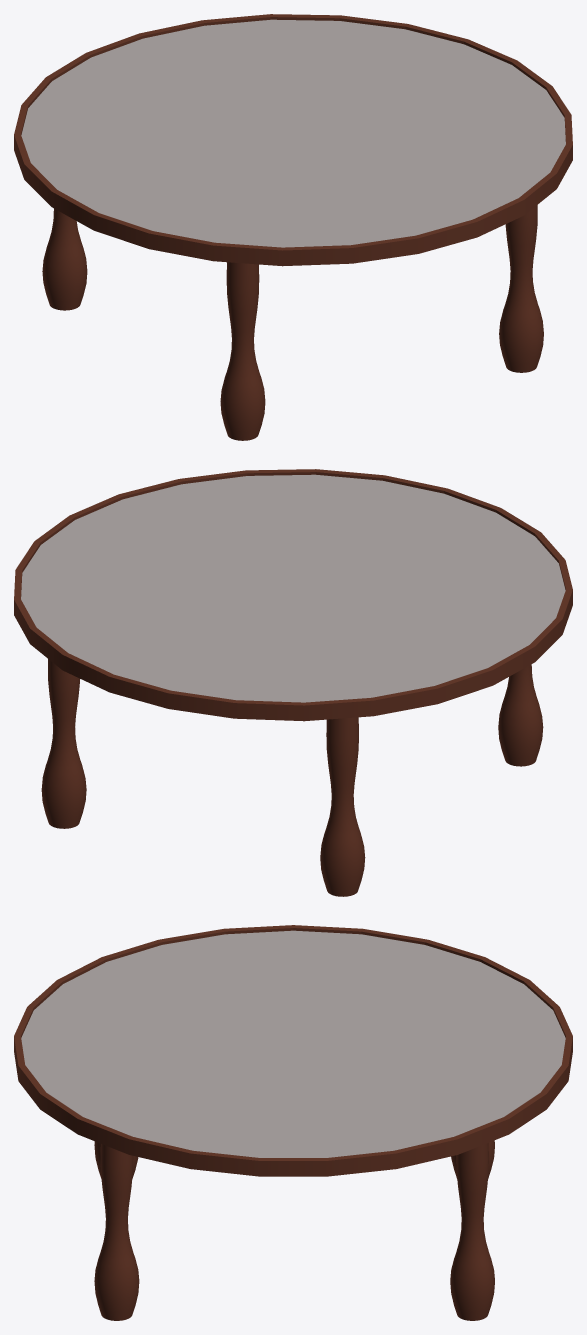
File: round_table.gltf
3 views of the same model, one above another, from view 1: azimuth 30°, elevation 25°; view 2: azimuth 150°, elevation 25°; view 3: azimuth 270°, elevation 25° (orthographic).
Visible parts, largest first — view 1: Cylinder001, Cylinder004, Cylinder005, Cylinder006; view 2: Cylinder001, Cylinder006, Cylinder007, Cylinder004; view 3: Cylinder001, Cylinder007, Cylinder005.
Part boxes in pixels (x1,y1,x2,y2): Cylinder001: (14,14,572,266); Cylinder004: (220,262,265,440); Cylinder005: (499,205,543,372); Cylinder006: (42,208,87,310); Cylinder001: (14,469,572,721); Cylinder006: (320,717,365,896); Cylinder007: (41,659,86,828); Cylinder004: (498,664,543,766); Cylinder001: (14,925,572,1176); Cylinder007: (450,1143,494,1320); Cylinder005: (94,1144,139,1320).
Size of the model in its own units: 0.8955 by 0.3599 by 0.8973.
